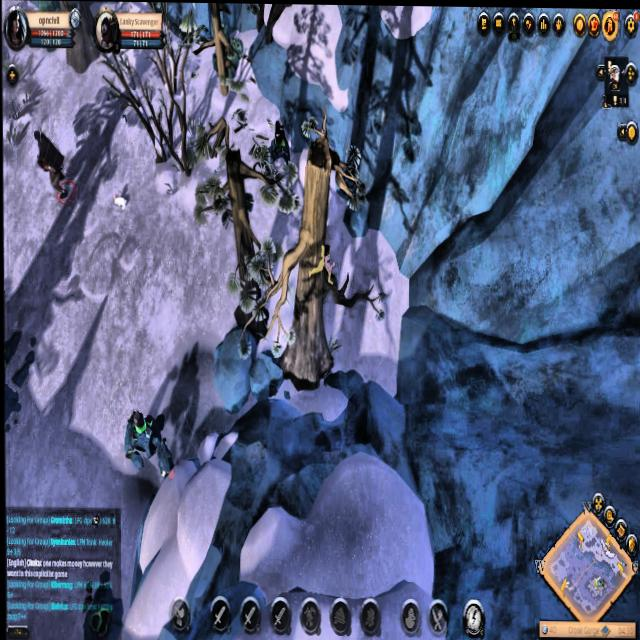mob: (32, 126, 82, 211)
tin_ore: (122, 405, 164, 468), (268, 117, 292, 167)
